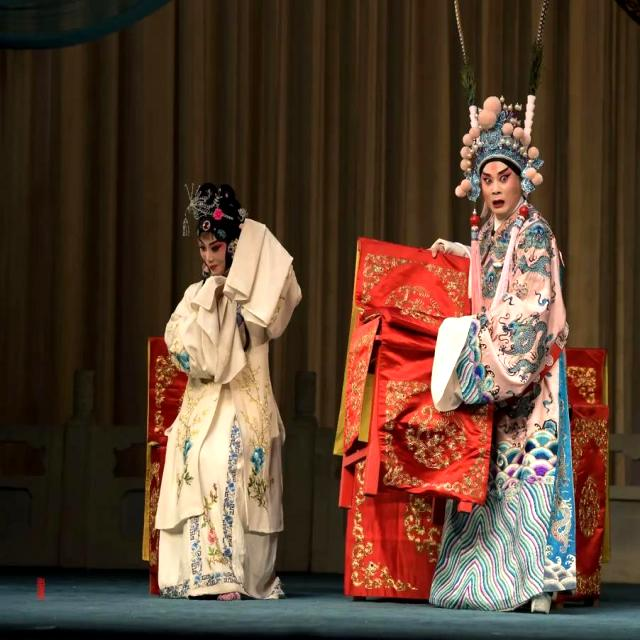Reeves-s Pheasant: (453, 0, 476, 114), (528, 0, 548, 96)
